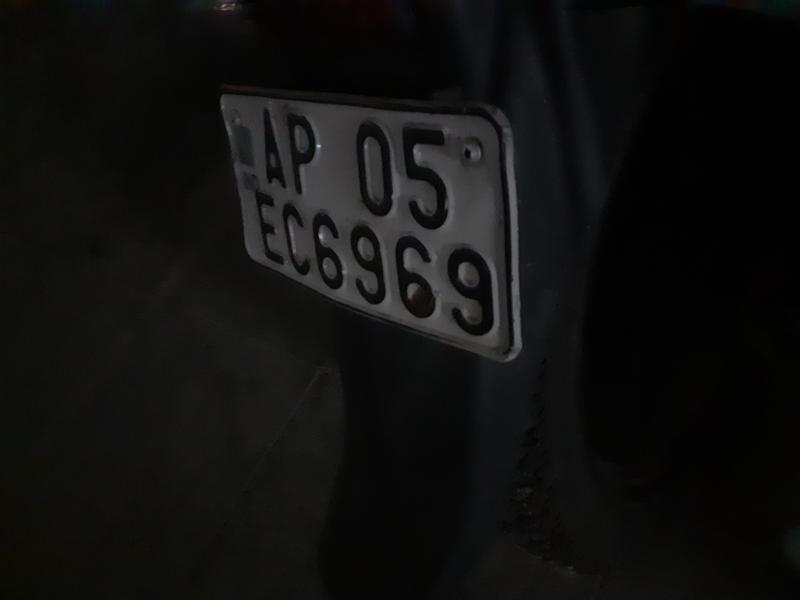numberplate: (213, 77, 541, 359)
